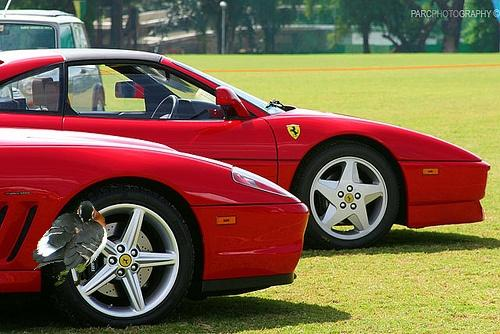tampered: (34, 202, 107, 286)
